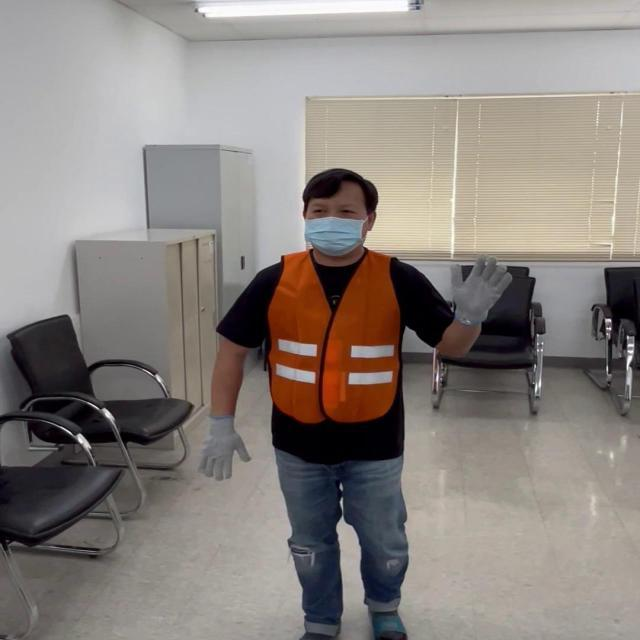gloved_hand: (443, 248, 511, 328), (197, 412, 252, 478)
